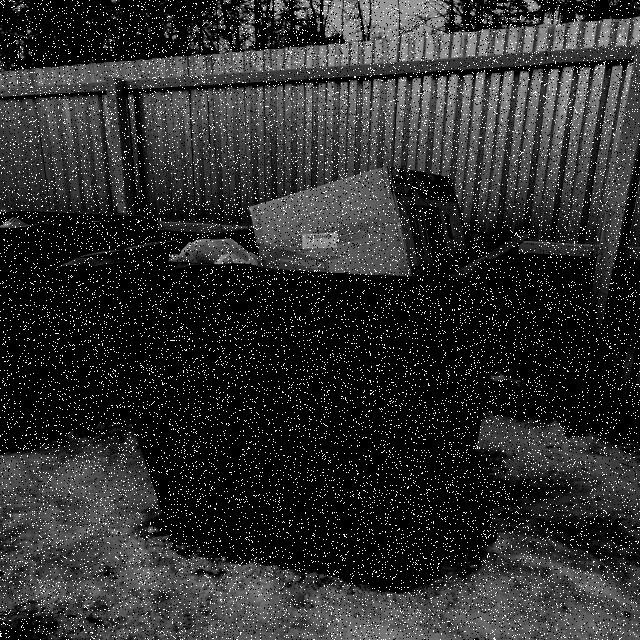Trashcan: (82, 165, 566, 586)
